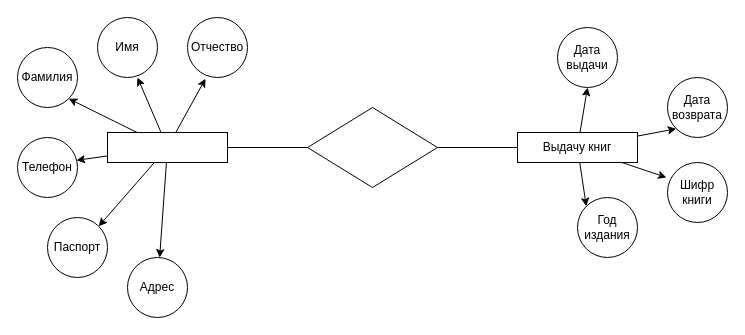
The diagram is 745 pixels wide and 335 high, and some of its shapes have lost their labels. Here are the shapes that lost their labels. From the top down, the centre of each, then its label:
At point (167, 147): "Сотрудник".
At point (372, 147): "Выдаёт".
